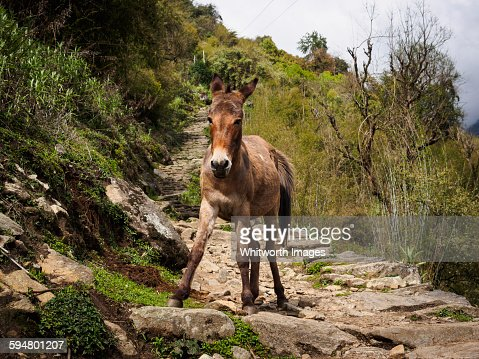equine: (162, 69, 309, 318)
